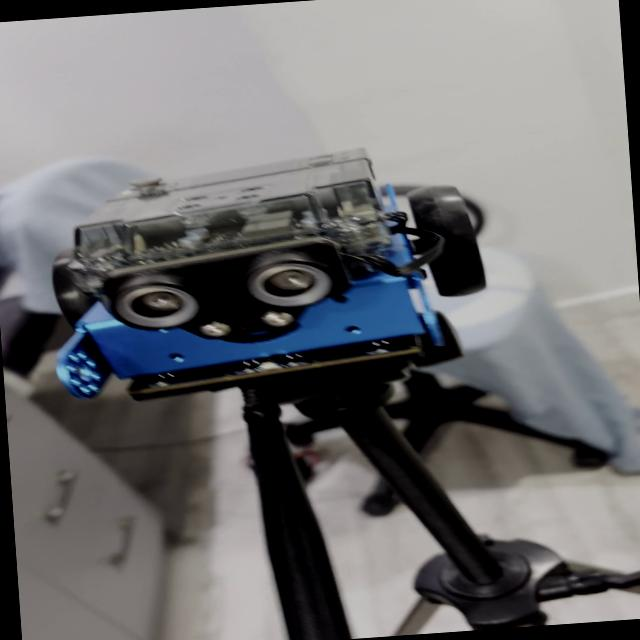mbot-detection: (27, 129, 521, 422)
